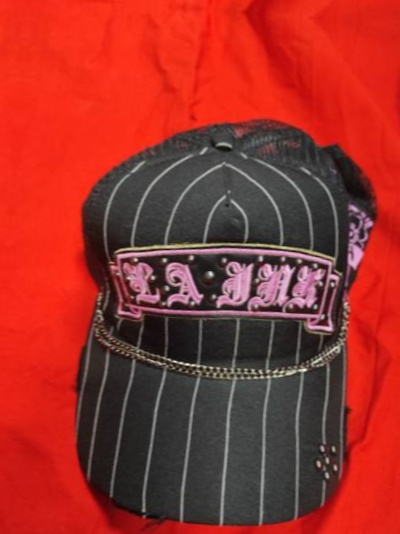Hat: (27, 79, 389, 534)
